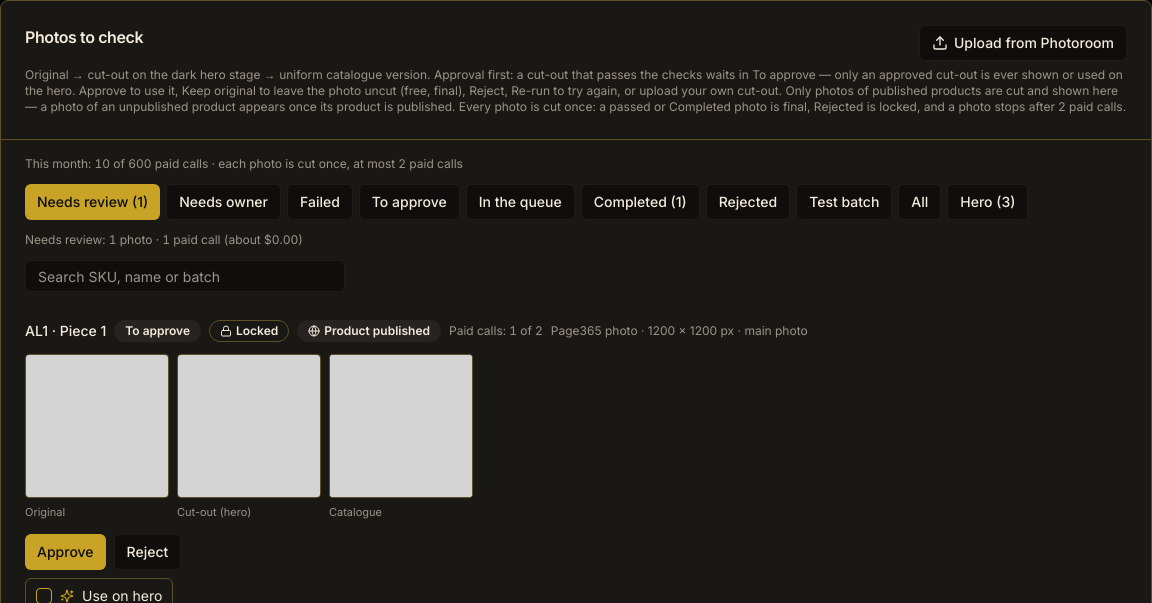
Hero tab — the running order (20261016100000) › per category: on the website now (n/3), waiting in tick order, not showing with the reason
Click the tab "Hero (3)".
click(988, 202)  # box [947, 184, 1028, 220]
(page scrolled)
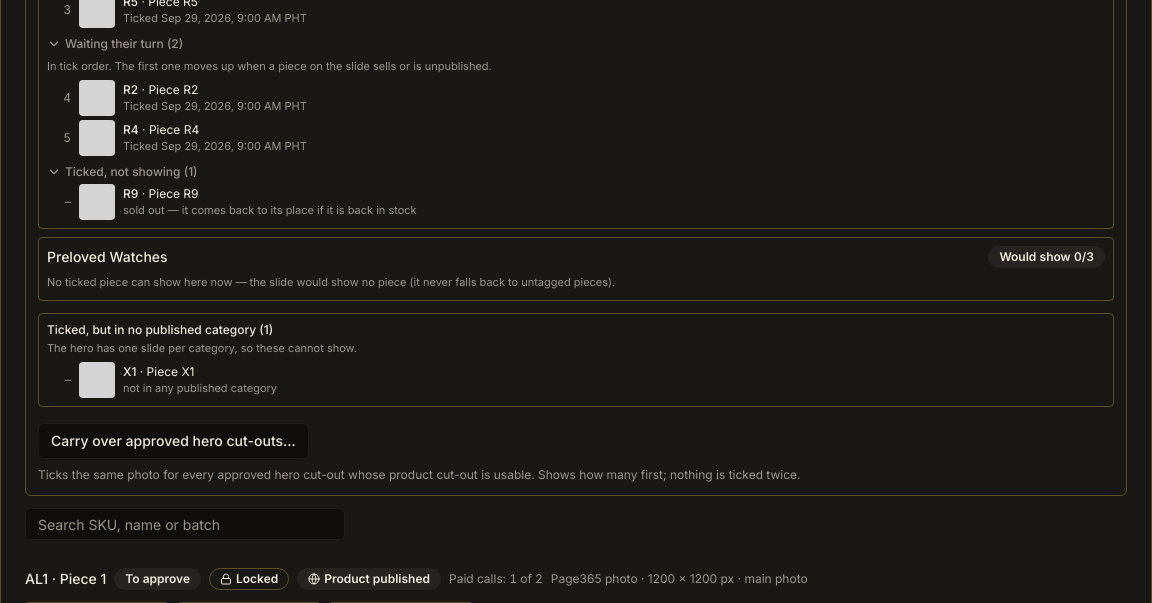
Expected: the list item with test id "hero-lineup-preloved-jewelry" shows "Waiting their turn (2)", [47, 36, 183, 52]
Expected: the list item with test id "hero-lineup-preloved-jewelry" shows "sold out — it comes back to its place if it is back in stock", [123, 203, 417, 217]
Expected: the list item with test id "hero-lineup-preloved-watches" shows "Would show 0/3", [38, 237, 1114, 301]
